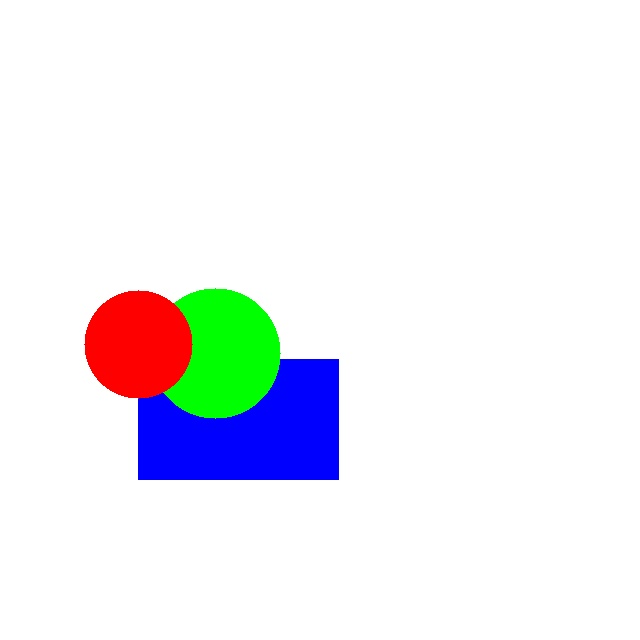cartao: (138, 359, 338, 479)
rosca_externa: (150, 288, 280, 418)
rosca_interna: (84, 290, 192, 398)
